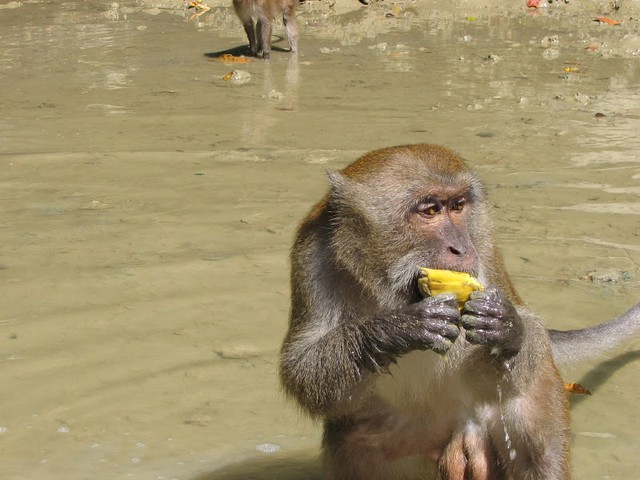Monkey: (280, 137, 601, 480), (219, 1, 312, 59)
